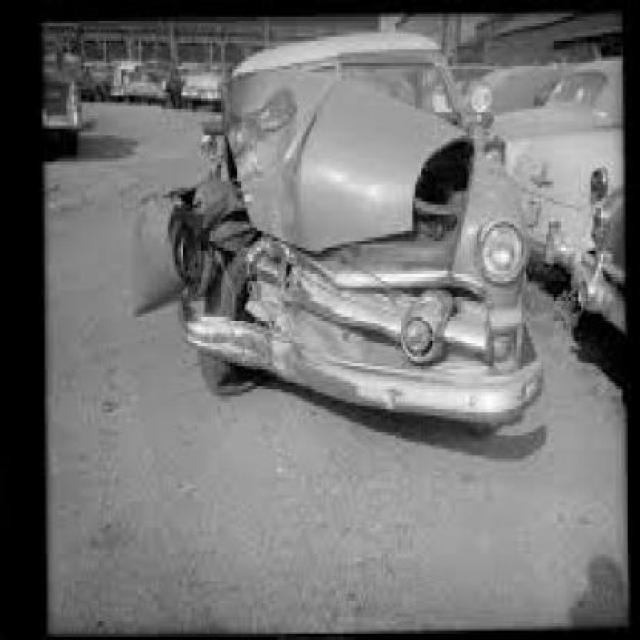damaged-hood: (224, 66, 466, 252)
